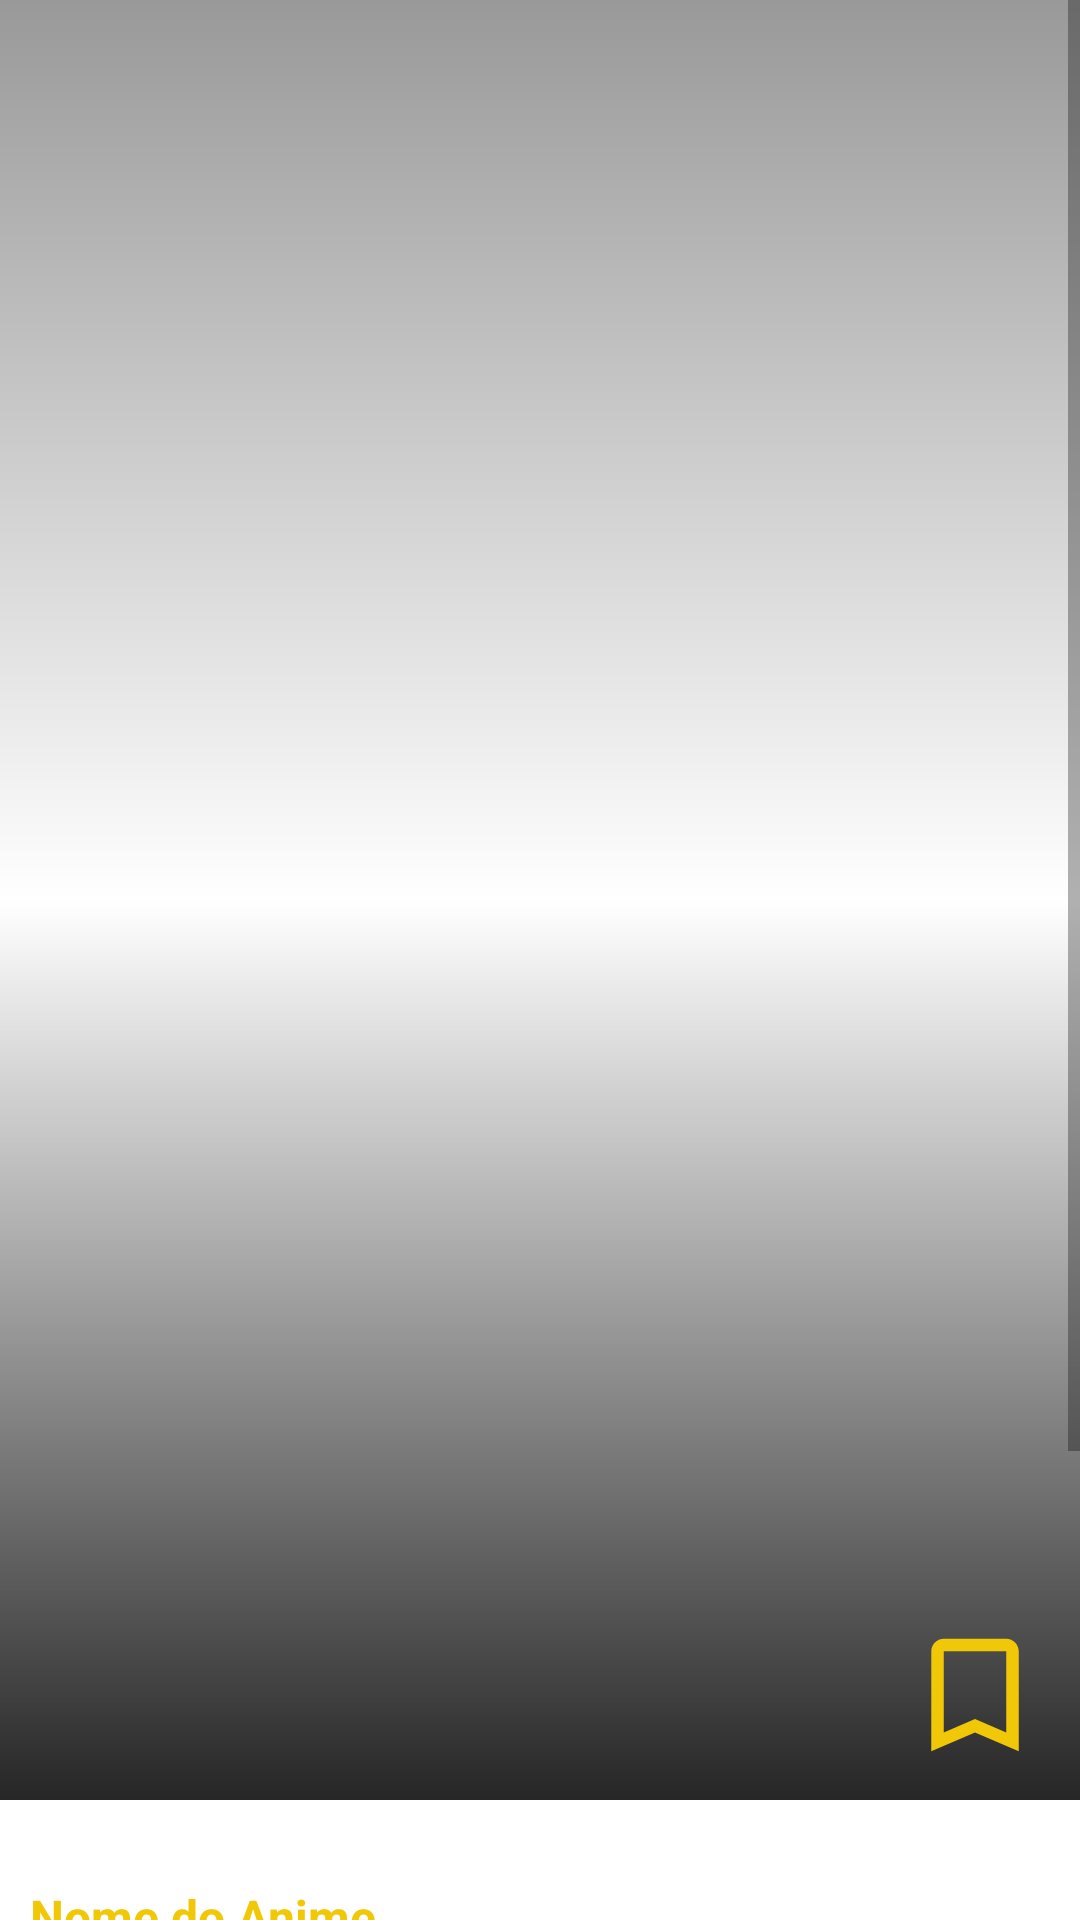

Named icons in this screenshot (1080px x 1920px) and their centers, (x=x, y=y):
anime favorito desmarcado: (x=975, y=1695)
